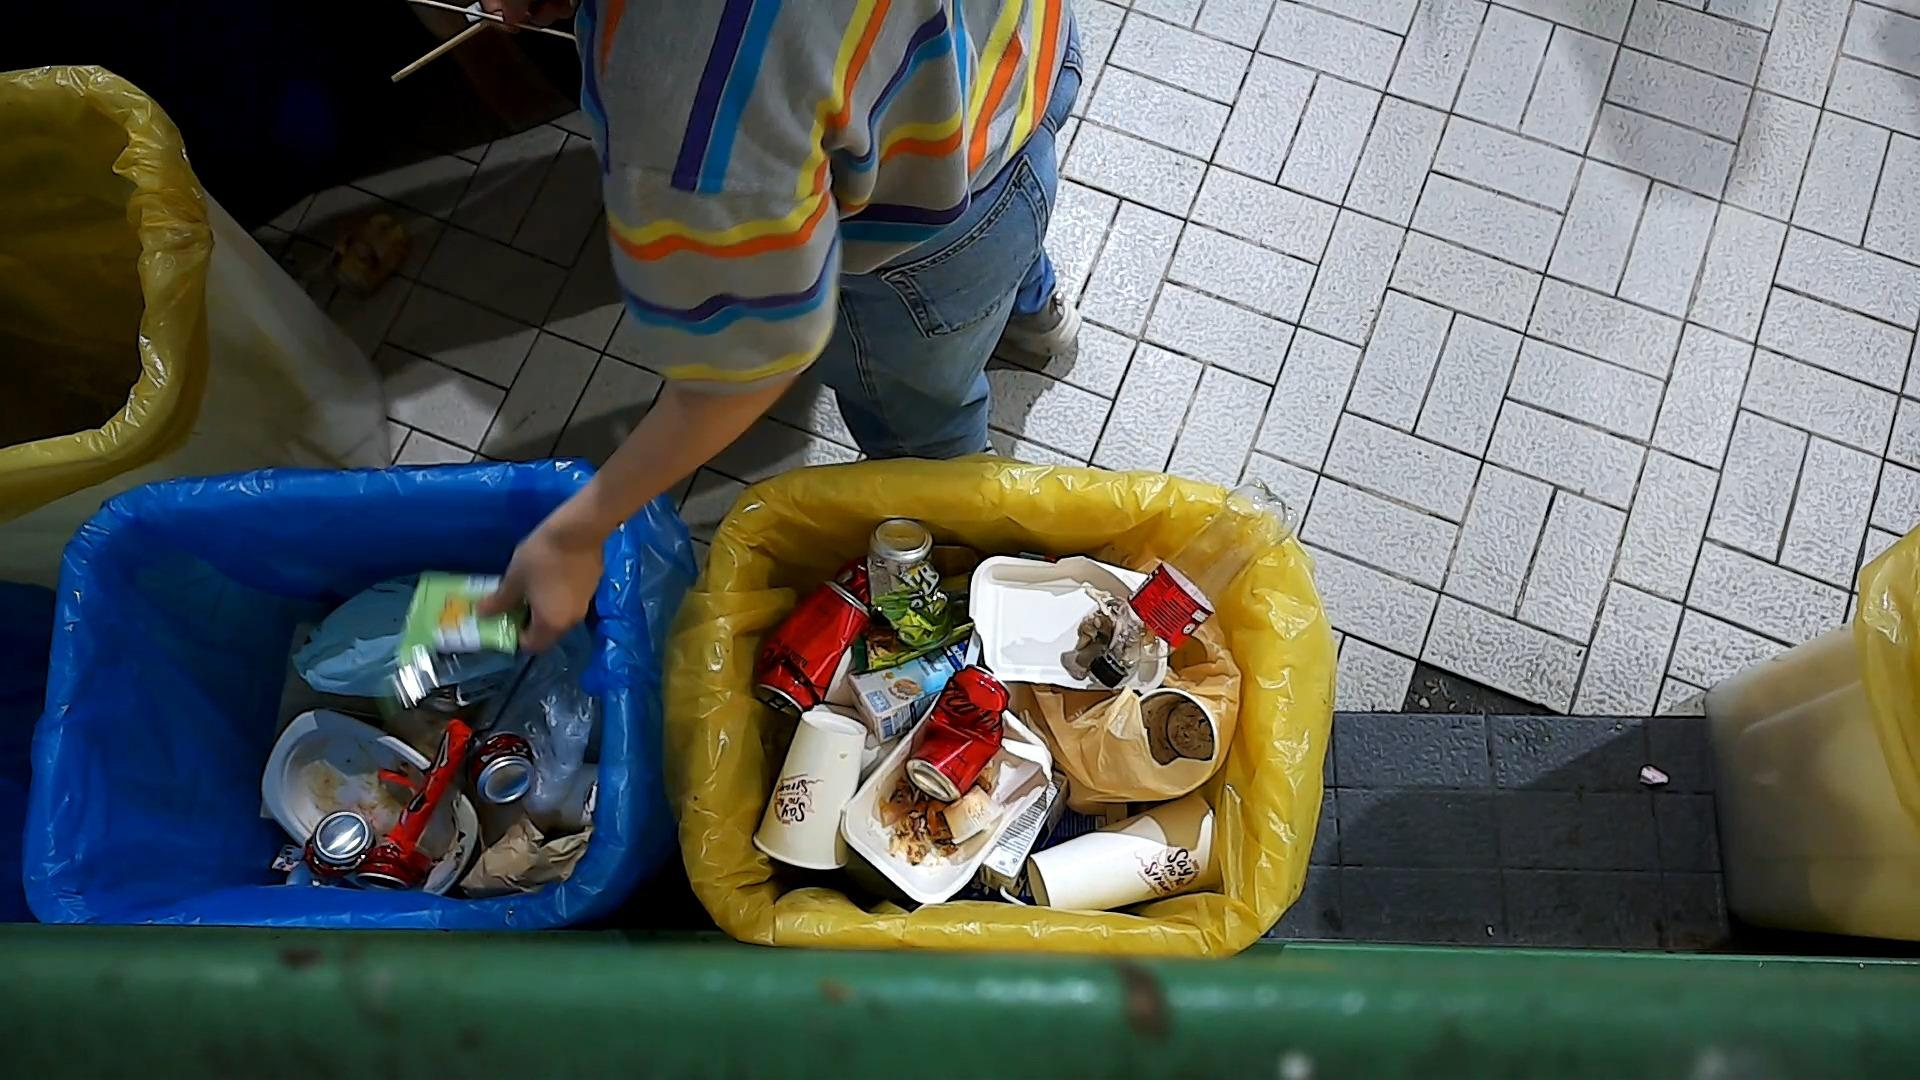can: (749, 575, 874, 721), (901, 662, 1015, 806), (864, 514, 957, 655), (301, 806, 378, 884), (469, 728, 539, 810), (352, 839, 433, 891)
dirty food container: (836, 686, 1056, 910), (965, 549, 1174, 695), (938, 778, 1007, 847)
filled plastic bag: (1027, 625, 1254, 816)
food container: (252, 700, 484, 897)
milk carton: (847, 632, 975, 753), (980, 762, 1073, 911)
paper bag: (451, 802, 597, 903)
plastic bag: (481, 617, 599, 825)
plastic bottle: (1084, 472, 1307, 690)
plastic cutlery: (458, 646, 541, 775)
snack packaging: (373, 559, 531, 721), (373, 715, 477, 861)
sticks: (385, 11, 504, 91), (405, 0, 579, 47)
zero waste cup: (1023, 787, 1226, 918), (749, 708, 868, 873)
